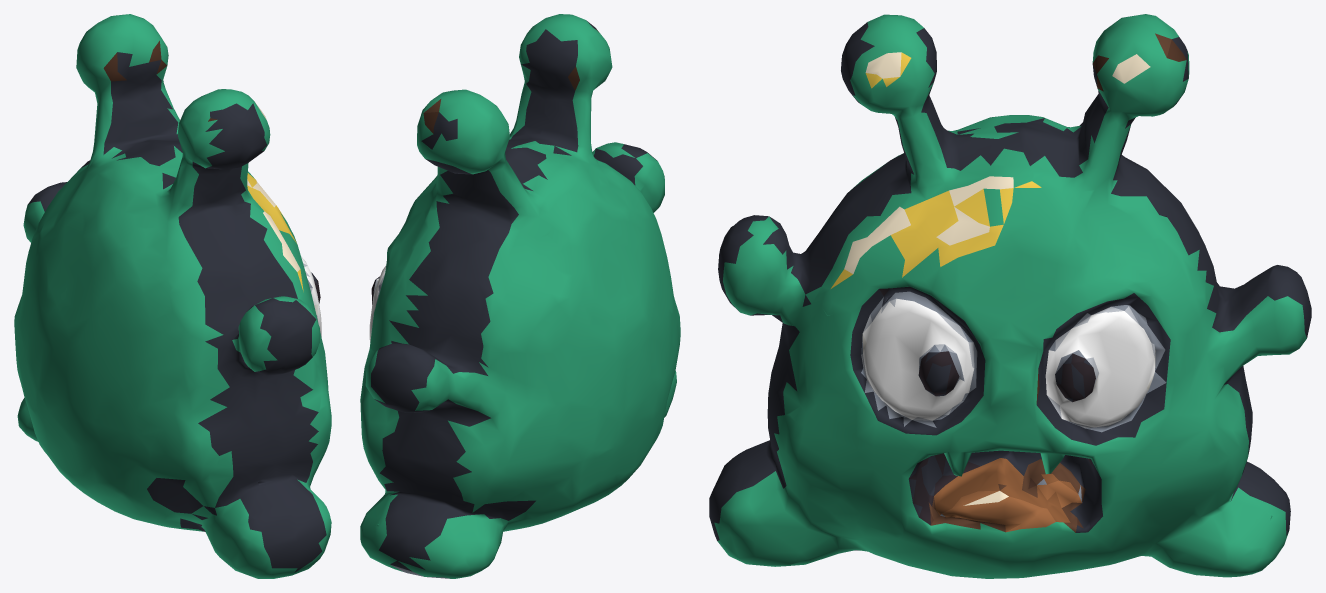
The model's file is SK_enemy_slime_green.glb.
3 views of the same model, side by side, from view 1: azimuth 30°, elevation 25°; view 2: azimuth 150°, elevation 25°; view 3: azimuth 270°, elevation 25° (orthographic). The views are drawn at different scales.
Parts seen in each view (by area): view 1: SK_enemy_slime_green; view 2: SK_enemy_slime_green; view 3: SK_enemy_slime_green.
Part boxes in pixels (bbox=[...]): SK_enemy_slime_green: bbox=[14, 14, 331, 578]; SK_enemy_slime_green: bbox=[360, 14, 680, 578]; SK_enemy_slime_green: bbox=[709, 14, 1311, 578].
Bounding box in the file's own units: 0.4181 × 0.75 × 0.7564.
1 material, 1 textured.
